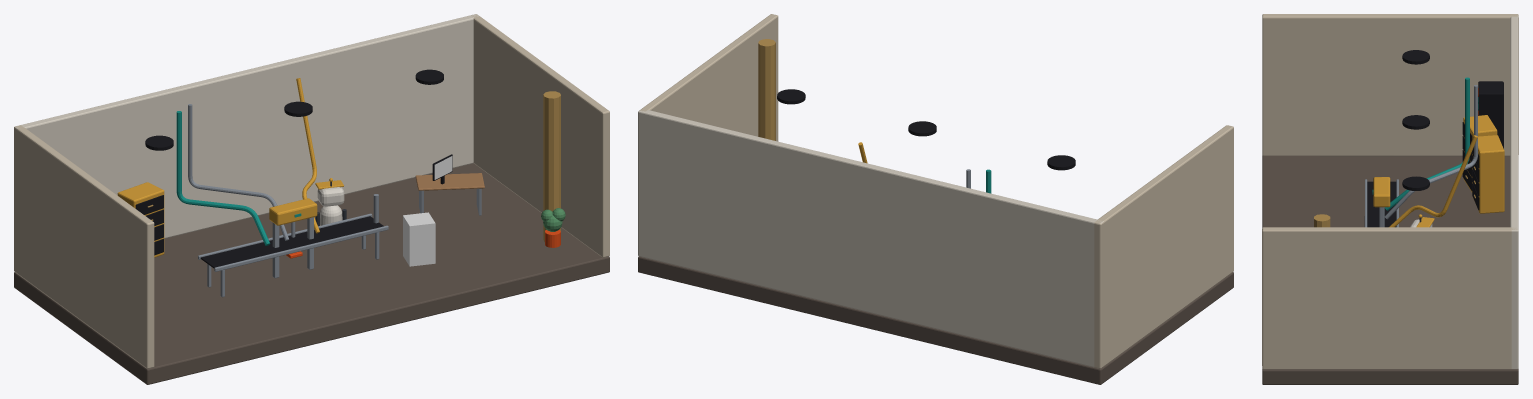
File: crm.glb
3 renders of one model, left to right at view 1: azimuth 30°, elevation 25°; view 2: azimuth 150°, elevation 25°; view 3: azimuth 270°, elevation 25°, orthographic. The views are drawn at different scales.
Parts seen in each view (by area): view 1: static, hit__deal, dyn__inspector__head; view 2: static; view 3: static.
Part boxes in pixels (bbox=[...]): static: bbox=[14, 14, 609, 384]; hit__deal: bbox=[403, 212, 435, 266]; dyn__inspector__head: bbox=[315, 178, 344, 206]; static: bbox=[638, 14, 1233, 384]; static: bbox=[1262, 14, 1518, 384].
Bounding box in the file's own units: 12 × 4.03 × 6.
